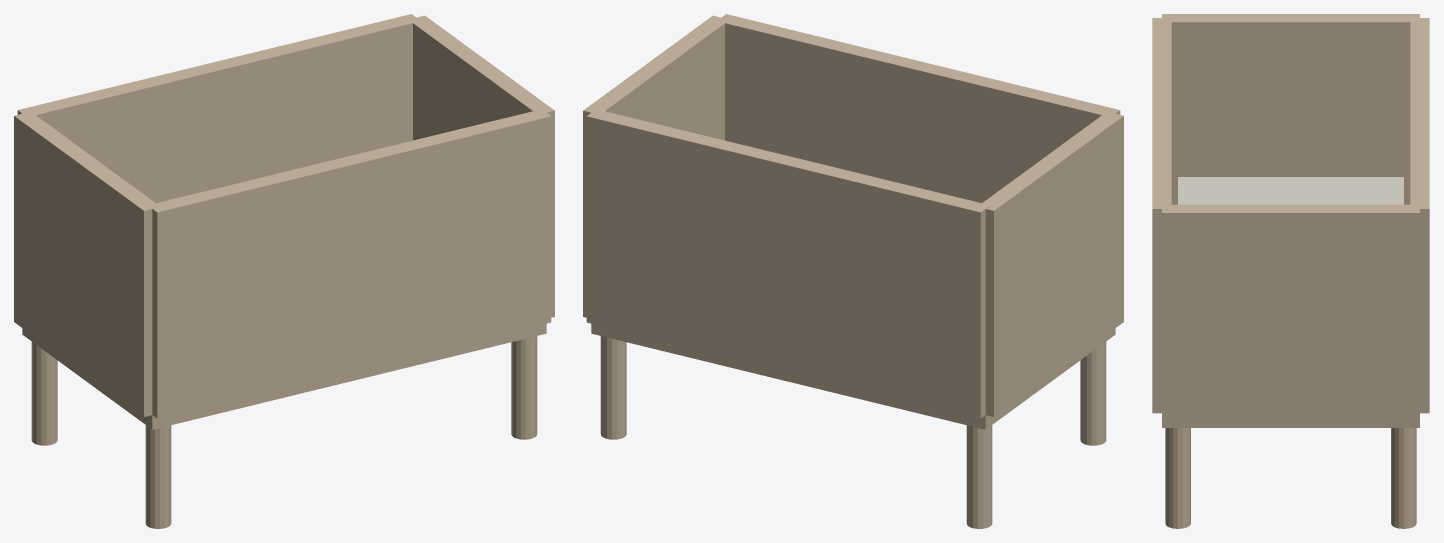
File: Crib.glb
The picture shows the model from 3 angles, left to right: view 1: azimuth 30°, elevation 25°; view 2: azimuth 150°, elevation 25°; view 3: azimuth 270°, elevation 25°; orthographic projection.
Visible parts, largest first — view 1: world; view 2: world; view 3: world.
Part boxes in pixels (<box>): world: <box>14,14,554,528</box>; world: <box>583,14,1123,528</box>; world: <box>1152,14,1429,528</box>.
Size of the model in its own units: 1.46 by 1.1 by 0.86.
